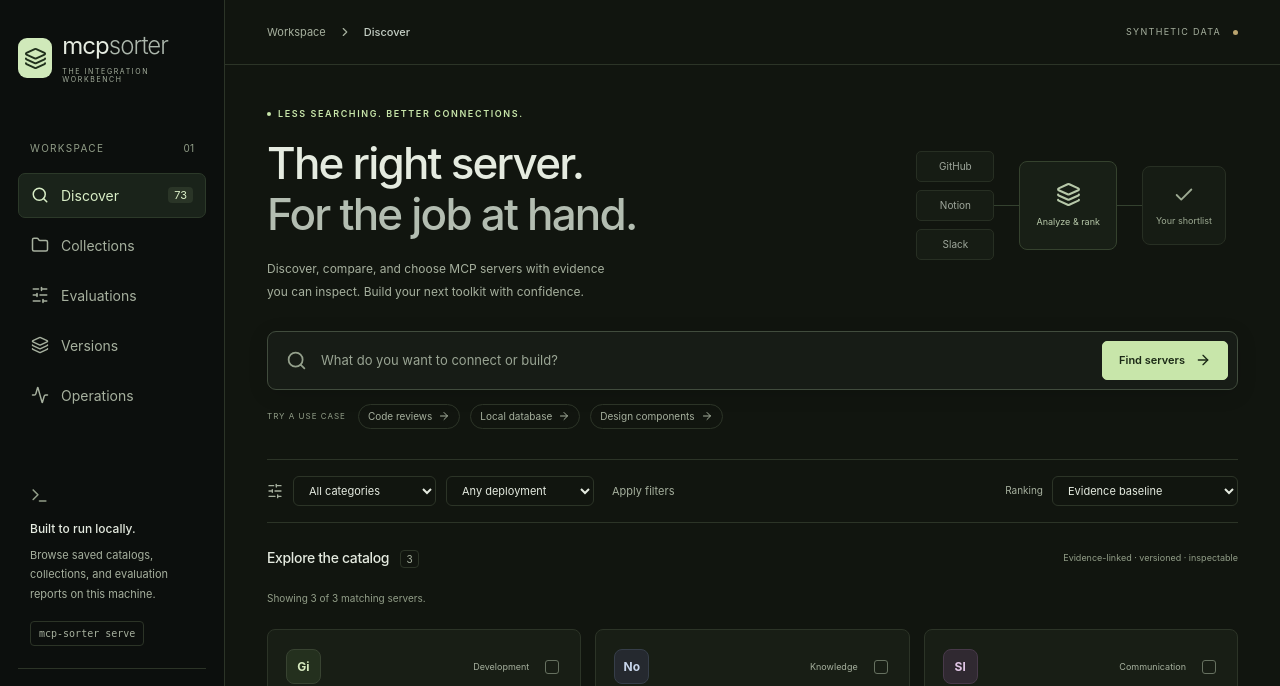
Test case: uses dataset metadata and the saved report cost null
Click the button "Evaluations" at (112, 295), box [18,273,206,318]
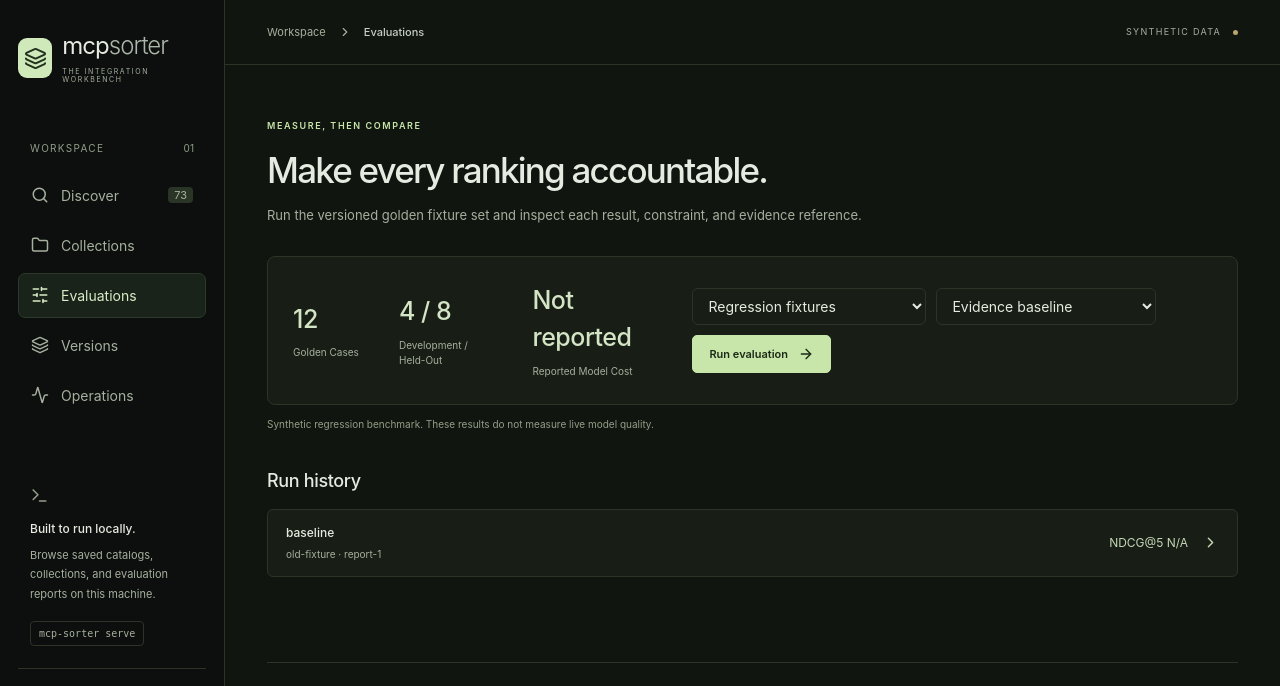
Check: the text "12" is shown, box [293,304,318,334]
Check: the text "4 / 8" is shown, box [399,296,451,326]
Check: the text "Not reported" is shown, box [532,285,631,352]
Click the button "baseline old-fixture · report-1 NDCG@5 N/A" at (310, 532), box [267,509,1238,577]
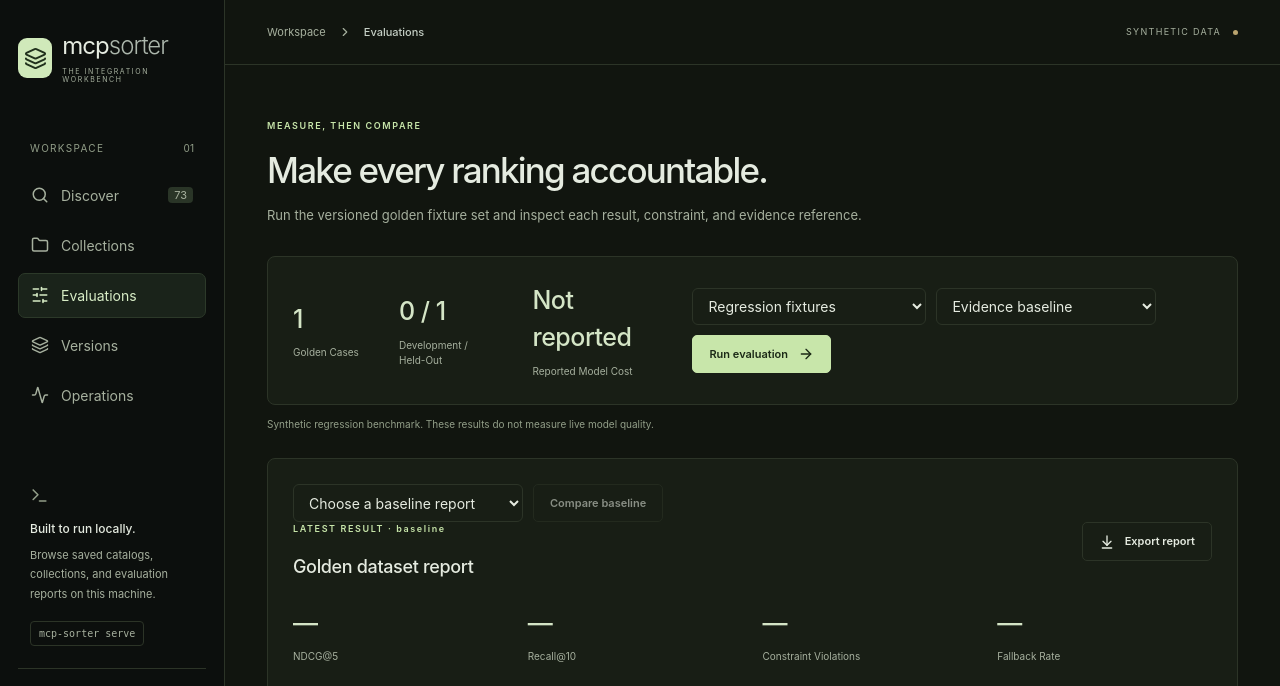
Check: the text "Not reported" is shown, box [532,285,631,352]
Check: the text "0 / 1" is shown, box [399,296,446,326]
Check: the text "4 / 8" is gone
